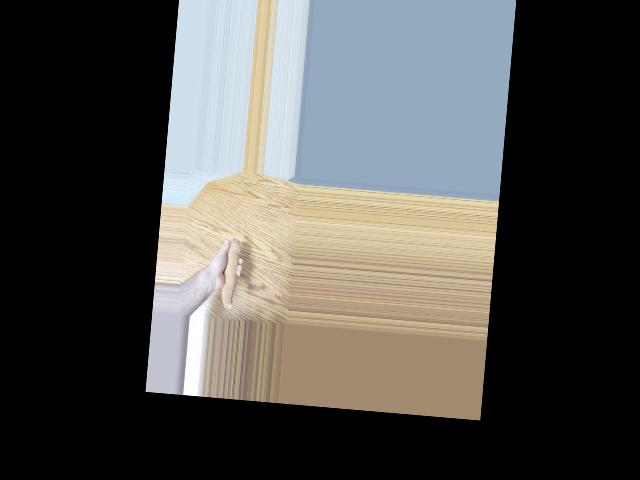sweet_potato: (215, 232, 245, 310)
